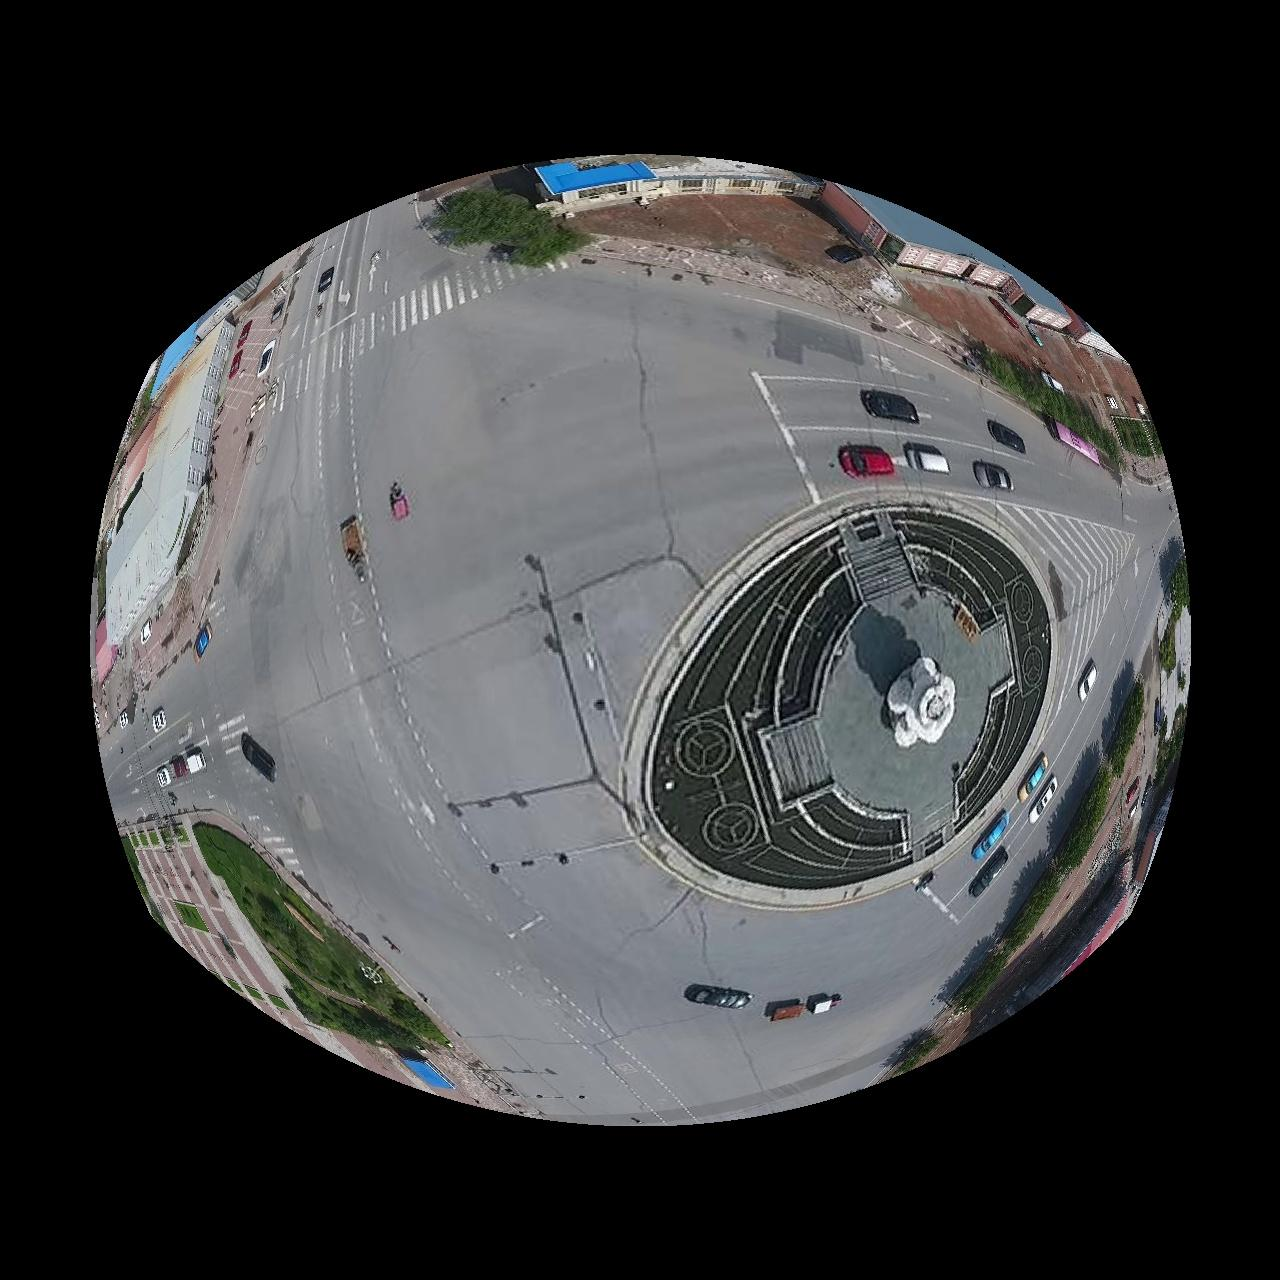building: (821, 181, 1124, 358), (92, 318, 234, 684), (534, 156, 824, 218), (397, 1052, 453, 1092)
cars: (765, 994, 843, 1024), (970, 848, 1011, 899), (155, 748, 205, 788), (862, 389, 920, 422), (839, 445, 896, 478), (684, 984, 751, 1012), (974, 811, 1010, 862), (240, 733, 273, 782), (1020, 753, 1051, 802), (1031, 775, 1060, 824), (906, 442, 950, 472), (989, 420, 1027, 452), (975, 460, 1015, 490), (1079, 660, 1100, 702), (255, 337, 277, 376), (193, 622, 209, 660), (148, 707, 166, 734)
trees: (194, 823, 449, 1054)
